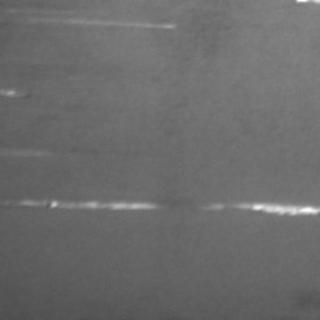scratches: (20, 192, 156, 214), (210, 194, 316, 218)
